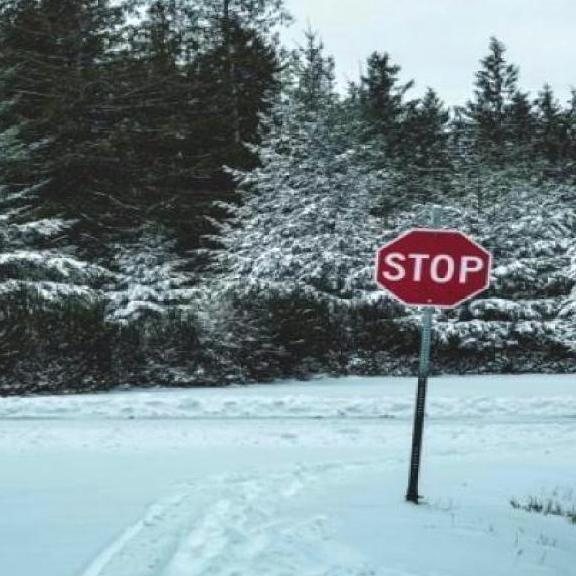stop_sign: (374, 230, 493, 306)
